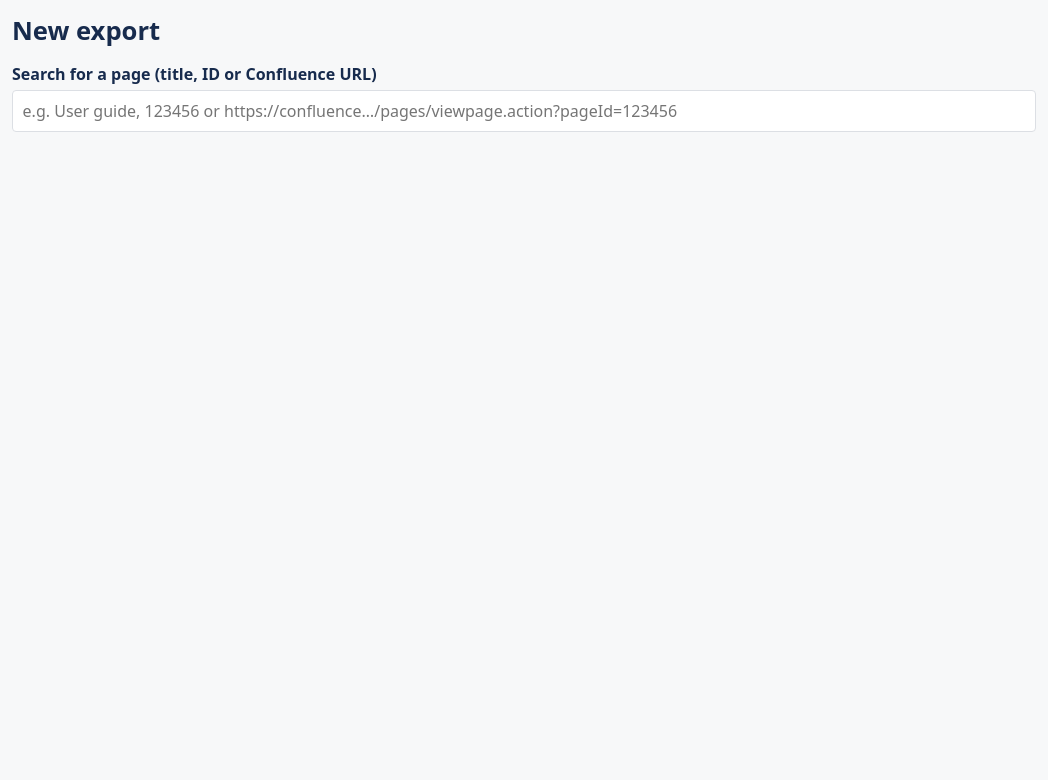
NewExportPage › searches a page, previews its tree and enqueues an export
Later steps or results of the test are not shown.
In the search field labelled "Search for a page (title, ID or Confluence URL)": (524, 111) [12,90,1036,132], type "guide"
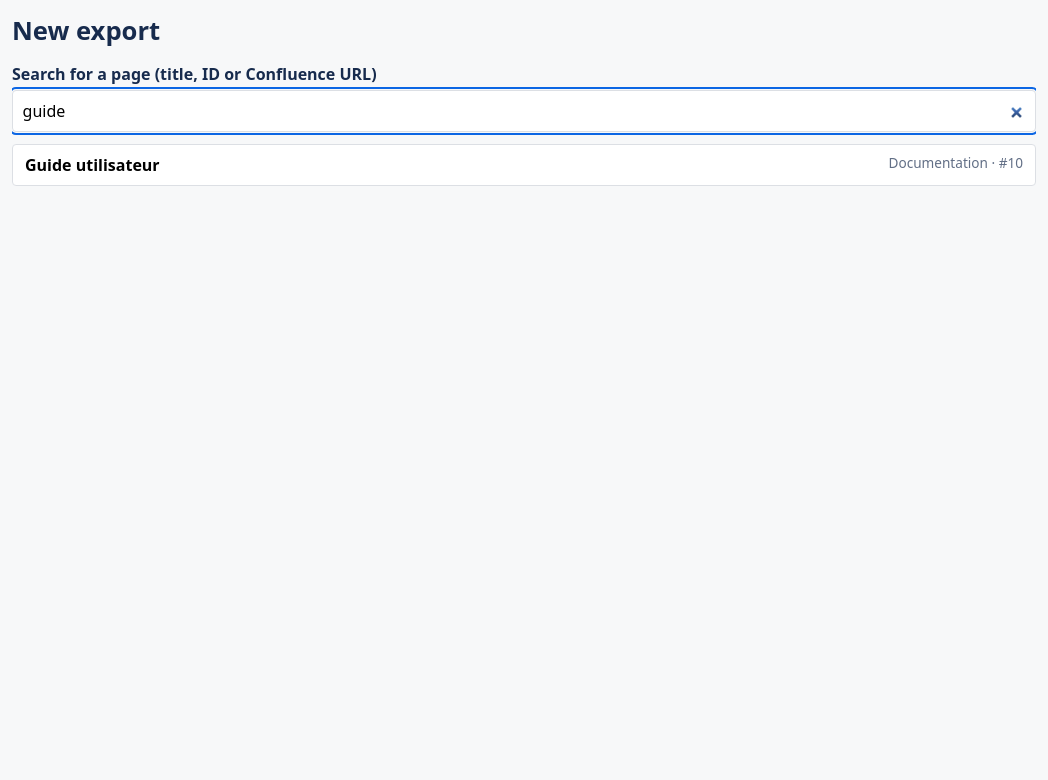
Click the button "Guide utilisateur Documentation · #10": (92, 165) [12,144,1036,186]
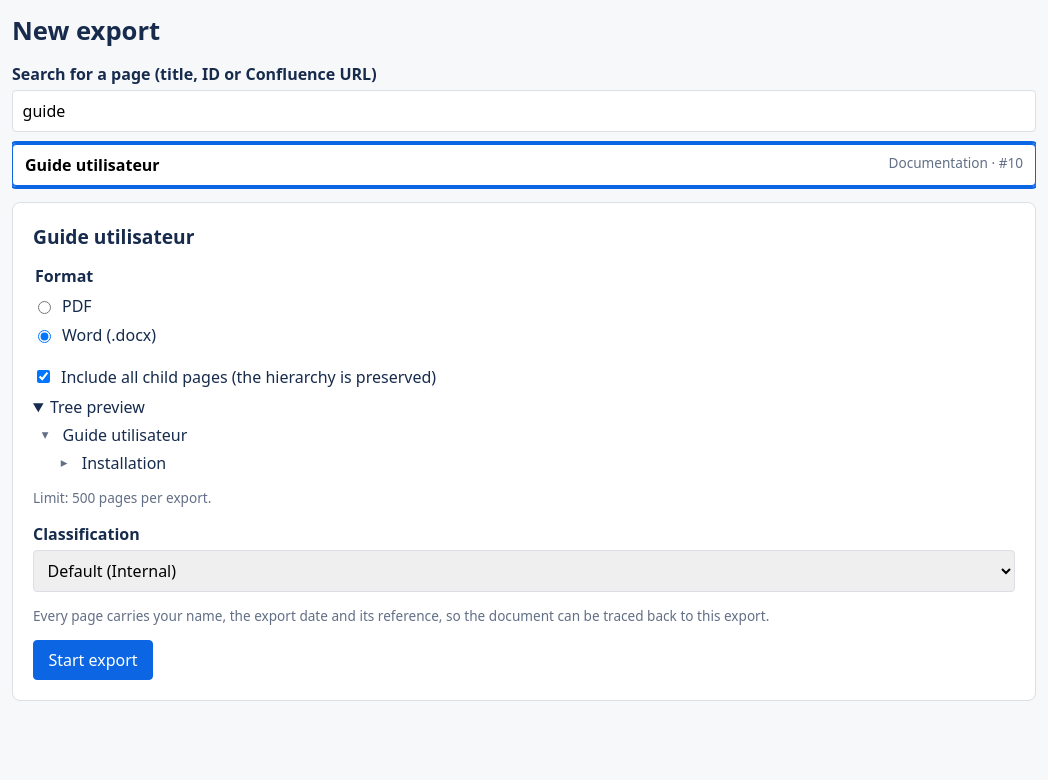
Result: the text "Installation" is shown at [82,451,166,475]
Result: the radio button labelled "Word (.docx)" is checked at [38,330,51,343]
